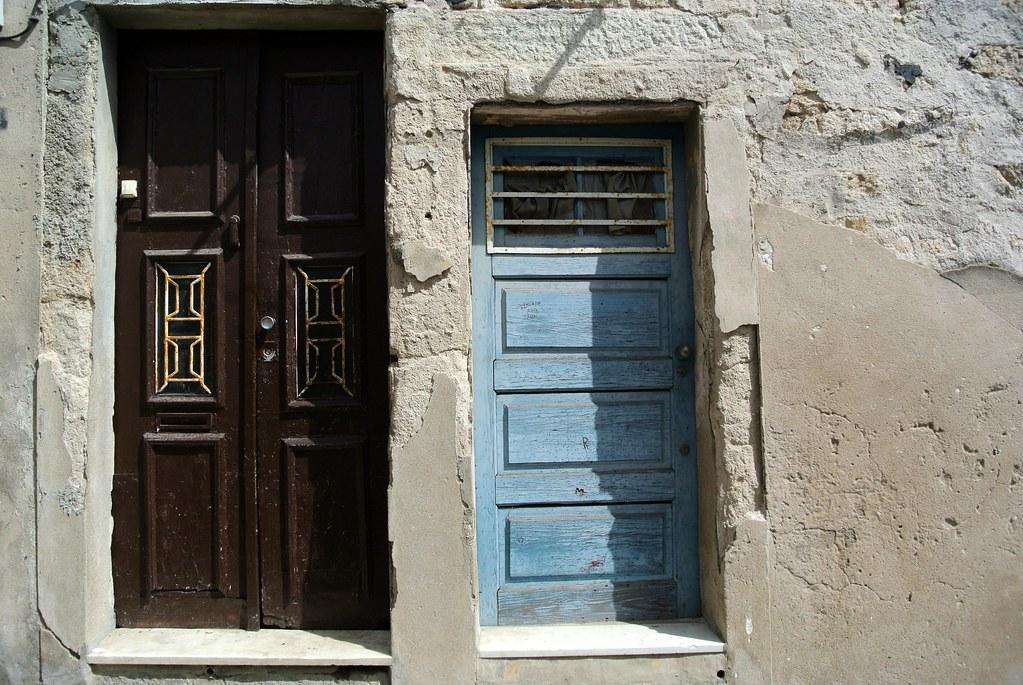door: (111, 27, 390, 632), (471, 118, 702, 627)
